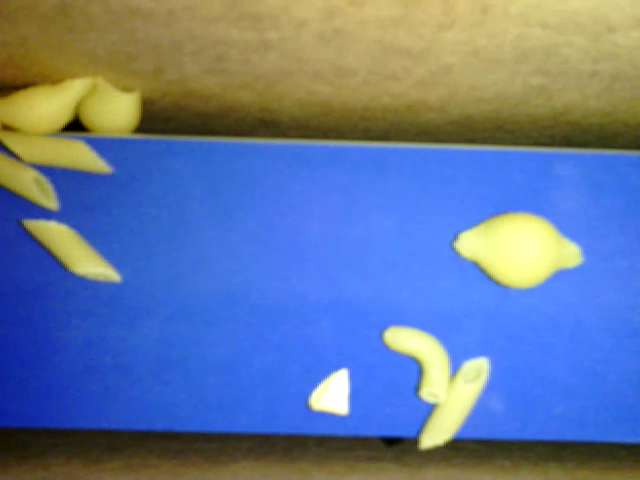elbow: (381, 327, 448, 400)
penne: (415, 350, 495, 451), (25, 217, 119, 283), (1, 134, 117, 176), (1, 146, 63, 209)
shell: (449, 205, 586, 284), (1, 72, 95, 132), (76, 78, 148, 133)
